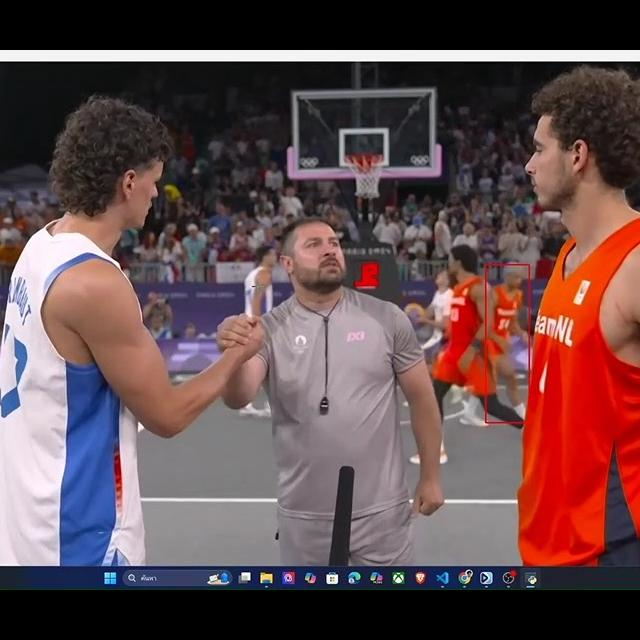hoop: (339, 151, 392, 202)
